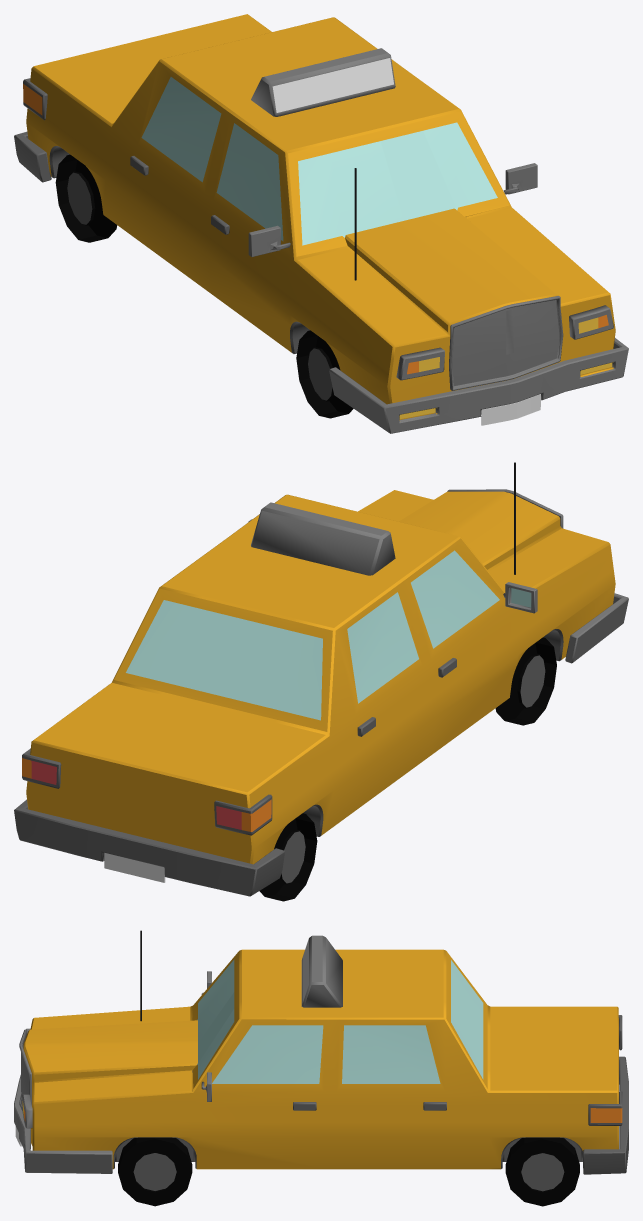
Rendered from Bart.fbx.
The picture shows the model from 3 angles, top to bottom: view 1: azimuth 30°, elevation 25°; view 2: azimuth 150°, elevation 25°; view 3: azimuth 270°, elevation 25°; orthographic projection. The views are drawn at different scales.
Visible parts, largest first — view 1: Bartholomew; view 2: Bartholomew; view 3: Bartholomew.
Part boxes in pixels (<box>): Bartholomew: <box>14,14,628,433</box>; Bartholomew: <box>14,462,628,901</box>; Bartholomew: <box>14,930,628,1206</box>.
Size of the model in its own units: 277 by 233 by 639.
